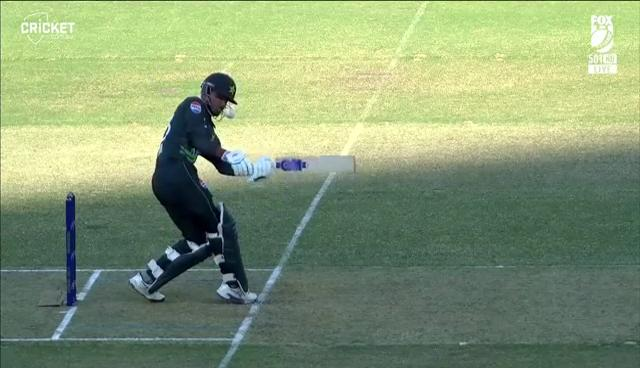ball: (219, 106, 240, 122)
